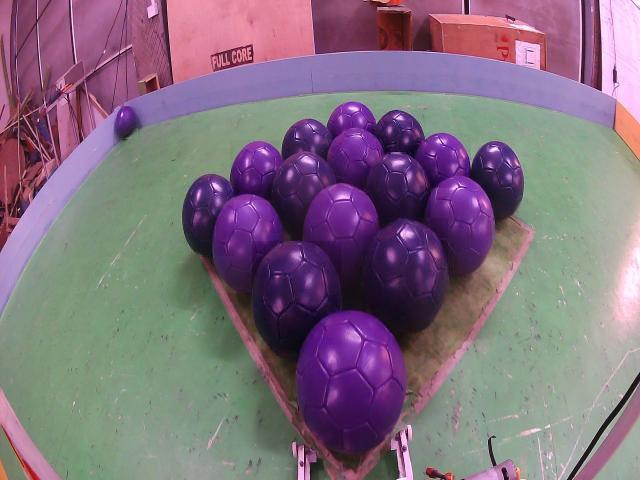jambhalya: (296, 310, 406, 454), (303, 183, 380, 287), (213, 194, 284, 293), (424, 175, 494, 275), (327, 128, 383, 190), (230, 140, 282, 200), (415, 134, 471, 188), (326, 102, 376, 138), (115, 107, 138, 139)
kaalyya: (253, 242, 341, 354), (364, 219, 448, 333), (272, 150, 336, 233), (365, 153, 431, 227), (183, 175, 234, 256), (471, 142, 524, 218), (375, 110, 425, 156), (282, 118, 332, 160)
